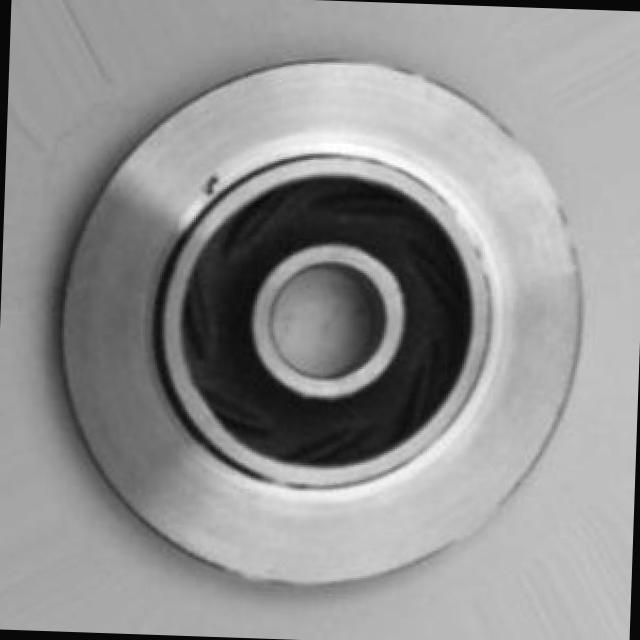Defect: (202, 173, 224, 196)
